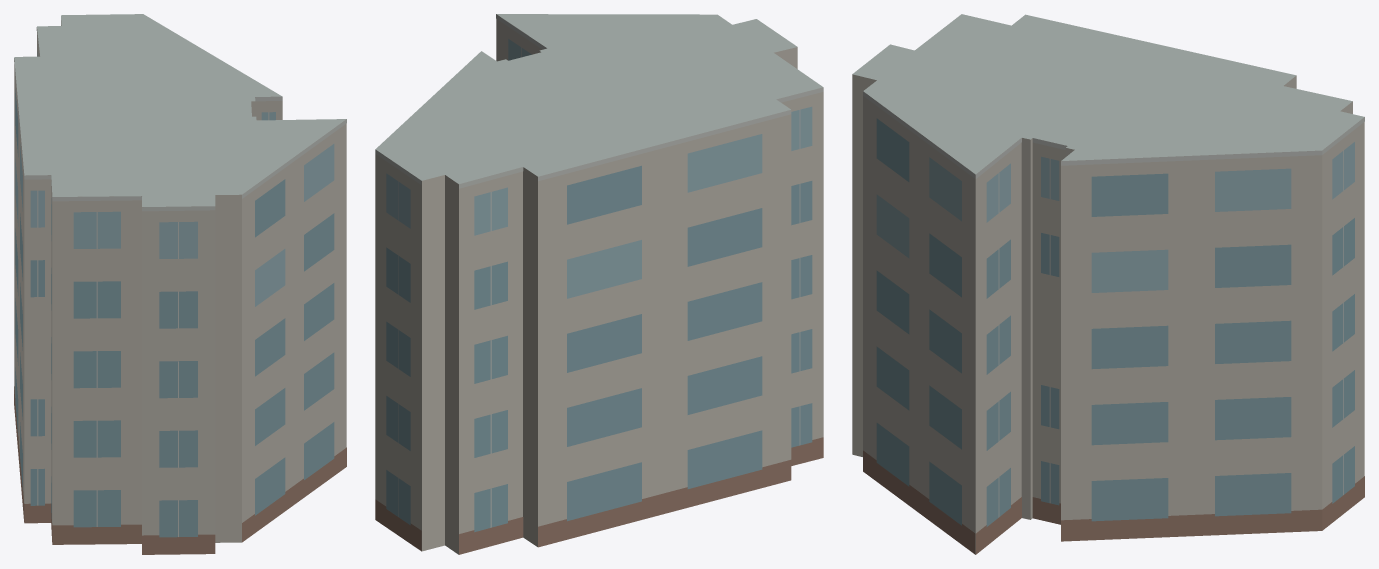
Rendered from survey-upis-32833305.glb.
3 views of the same model, side by side, from view 1: azimuth 30°, elevation 25°; view 2: azimuth 150°, elevation 25°; view 3: azimuth 270°, elevation 25° (orthographic). The views are drawn at different scales.
Parts seen in each view (by area): view 1: survey-upis-32833305.tmp; view 2: survey-upis-32833305.tmp; view 3: survey-upis-32833305.tmp.
Boxes of the visible parts, x1,y1,x2,y2 form: survey-upis-32833305.tmp: (14,14,346,554); survey-upis-32833305.tmp: (375,14,823,554); survey-upis-32833305.tmp: (852,14,1364,554).
Bounding box in the file's own units: 18.02 × 19.9 × 24.31.
